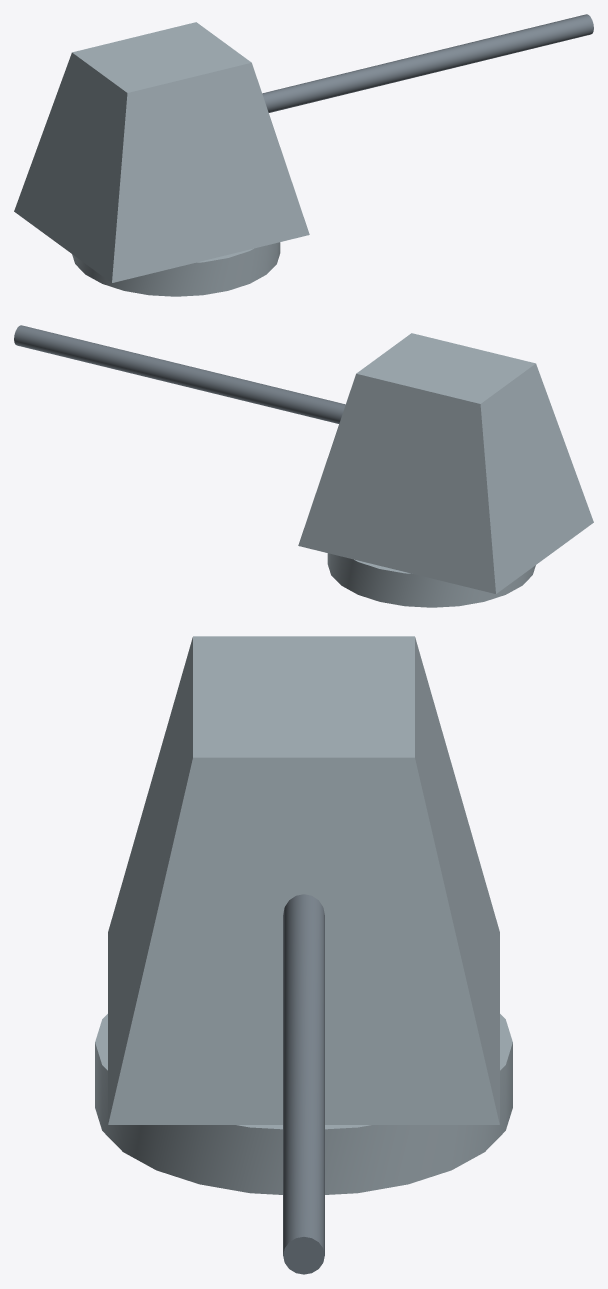
Rendered from pla_hpj26_76mm.glb.
3 renders of one model, top to bottom at view 1: azimuth 30°, elevation 25°; view 2: azimuth 150°, elevation 25°; view 3: azimuth 270°, elevation 25°, orthographic. The views are drawn at different scales.
Parts seen in each view (by area): view 1: naval_paint, titanium; view 2: naval_paint, titanium; view 3: naval_paint, titanium.
Part boxes in pixels (left/top/right/bottom): naval_paint: left=14, top=22, right=309, bottom=296; titanium: left=262, top=14, right=593, bottom=112; naval_paint: left=298, top=333, right=593, bottom=607; titanium: left=14, top=325, right=345, bottom=423; naval_paint: left=95, top=636, right=512, bottom=1194; titanium: left=283, top=894, right=324, bottom=1274.
Bounding box in the file's own units: 10 × 3.61 × 3.44.
